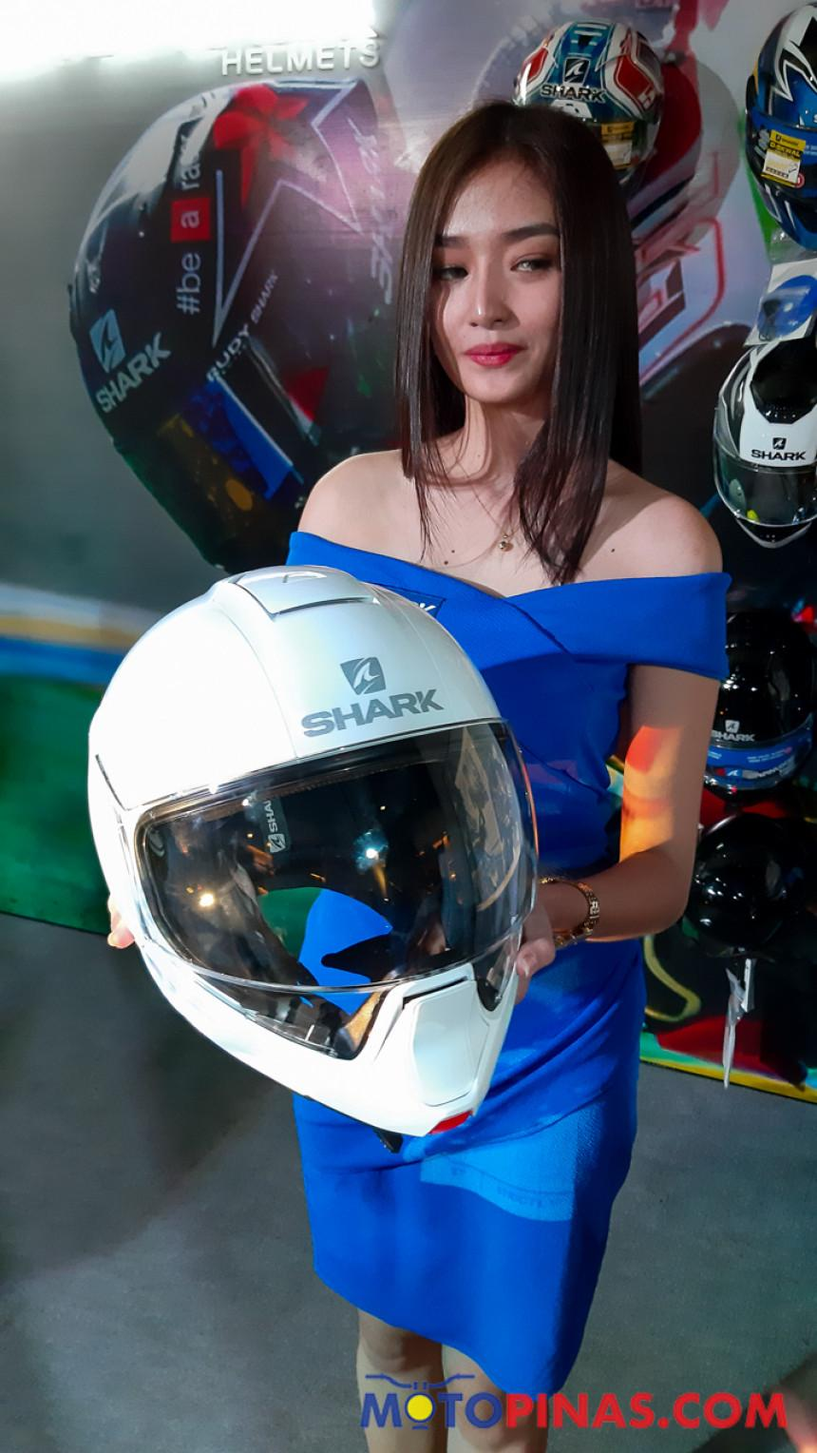helmet: (86, 564, 541, 1138), (65, 76, 404, 579)
nohelmet: (407, 109, 640, 436)
